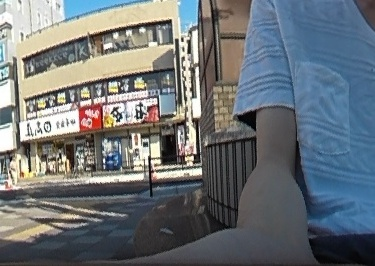person: (8, 156, 18, 184)
